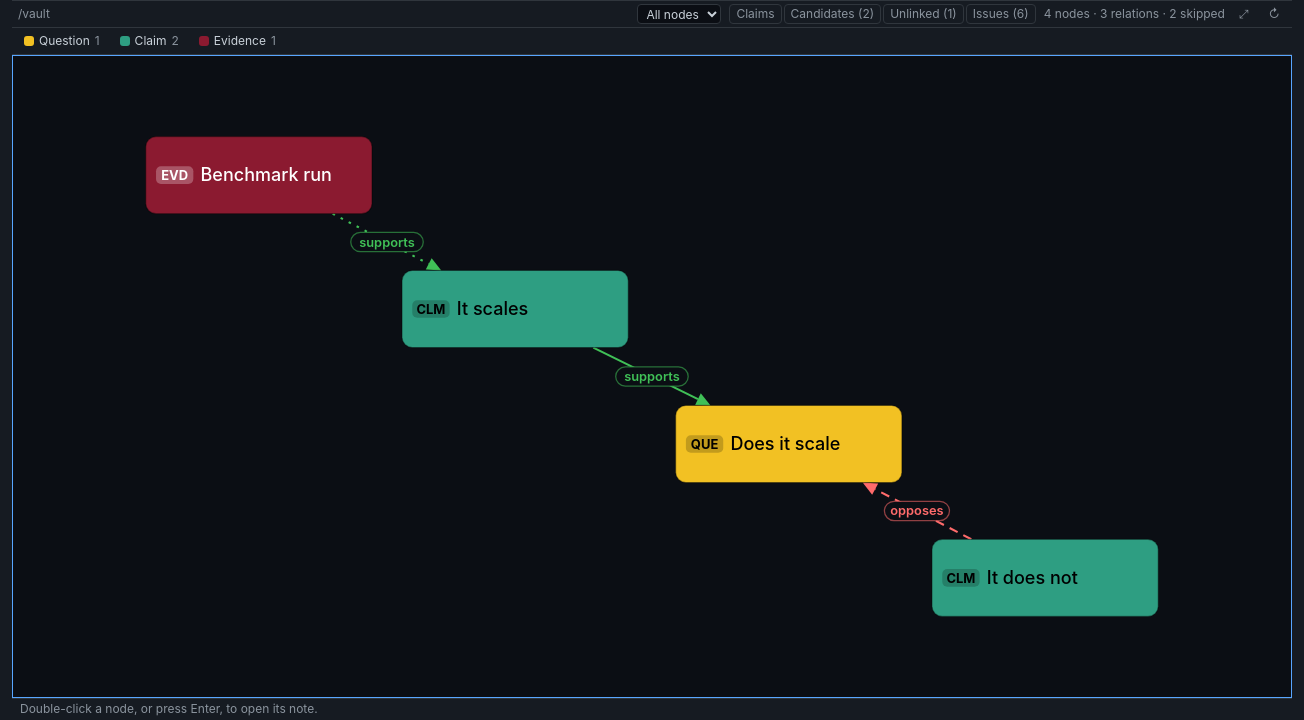
the legend › hides a type and its relations on a click, and shows them again on the next
Later steps or results of the test are not shown.
Click the button "Claim 2".
click(149, 41)  # box [114,31,185,51]
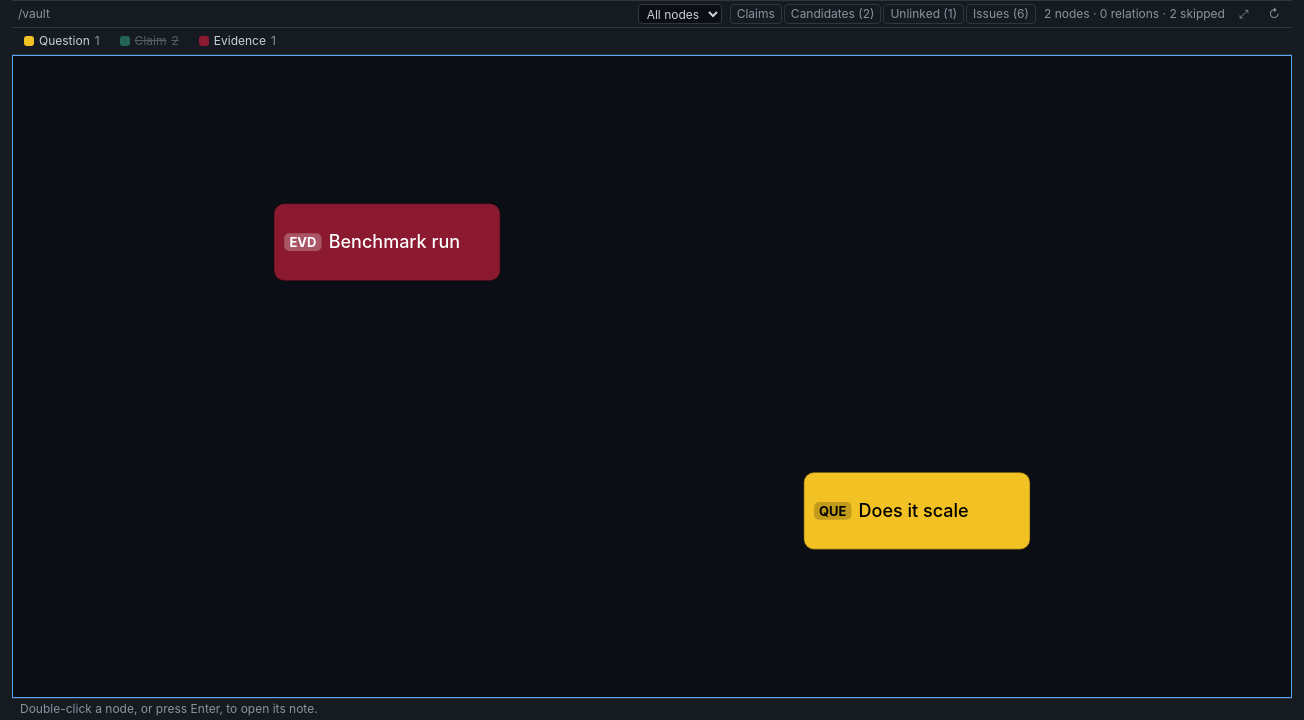
Result: the text "2 nodes · 0 relations · 2 skipped" is shown at [1044,6,1225,22]
